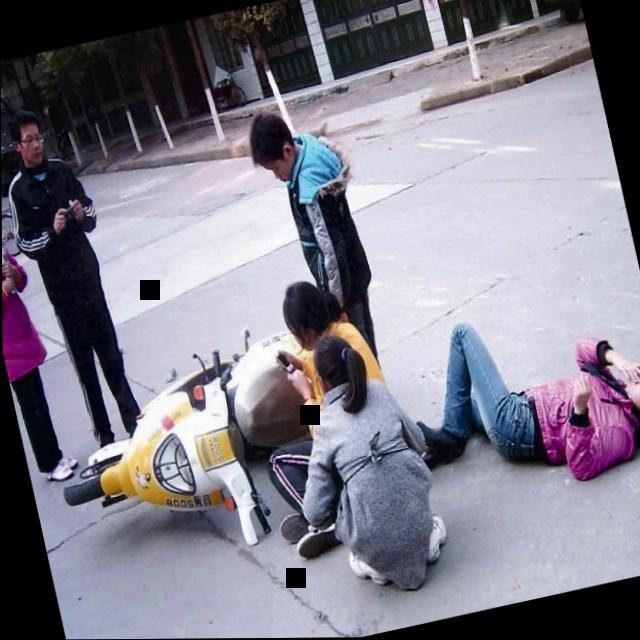Fall-Detected: (377, 266, 640, 524)
